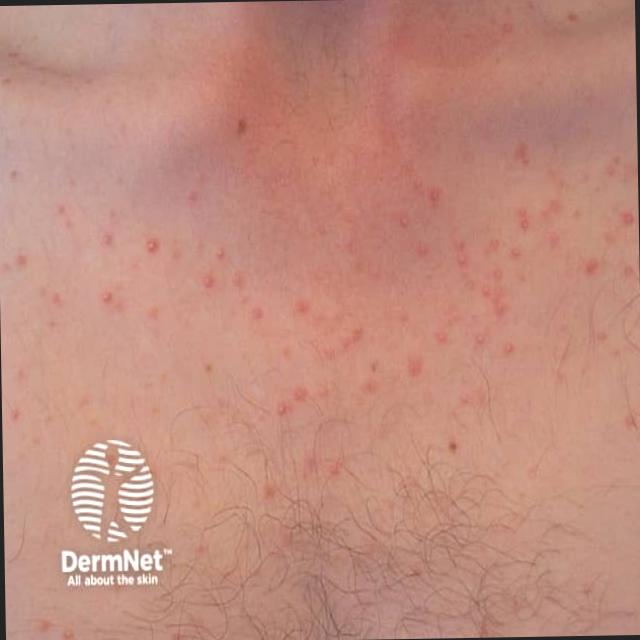fungal: (0, 102, 640, 512)
